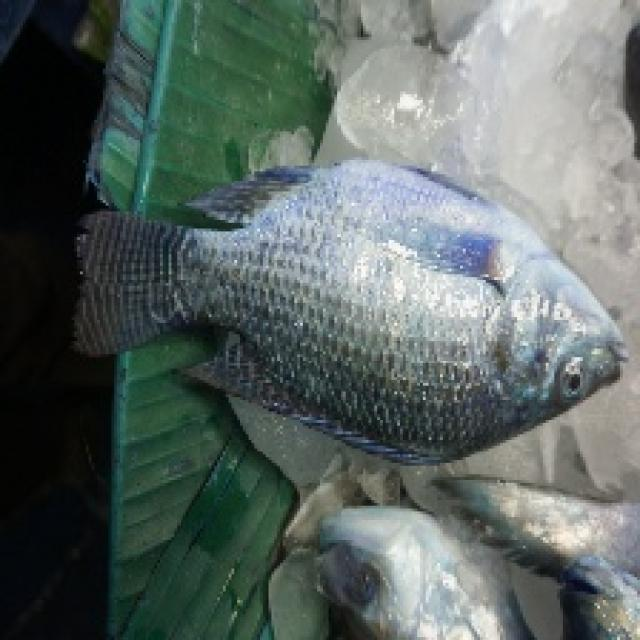Fresh: (71, 123, 640, 480)
